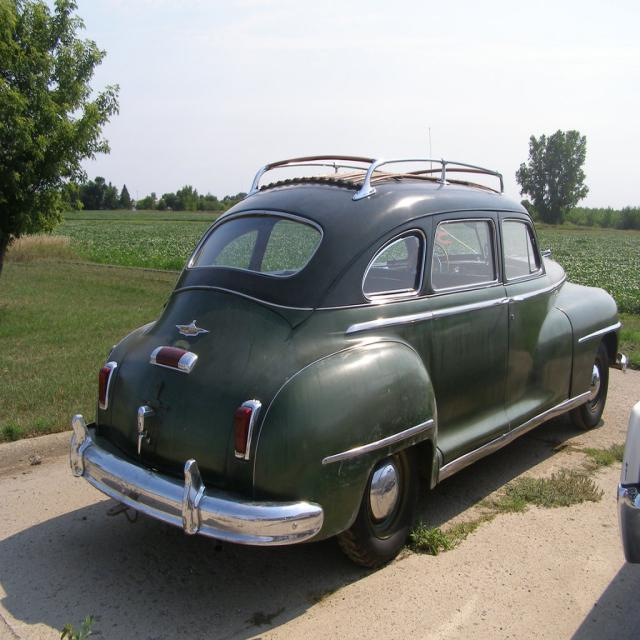car: (80, 157, 598, 577)
